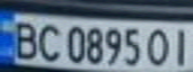0: (63, 22, 87, 64)
5: (121, 25, 145, 68)
8: (84, 24, 106, 65)
9: (103, 24, 124, 66)
B: (6, 18, 42, 61)
C: (33, 20, 63, 62)
I: (166, 25, 193, 66)
O: (145, 25, 172, 68)
